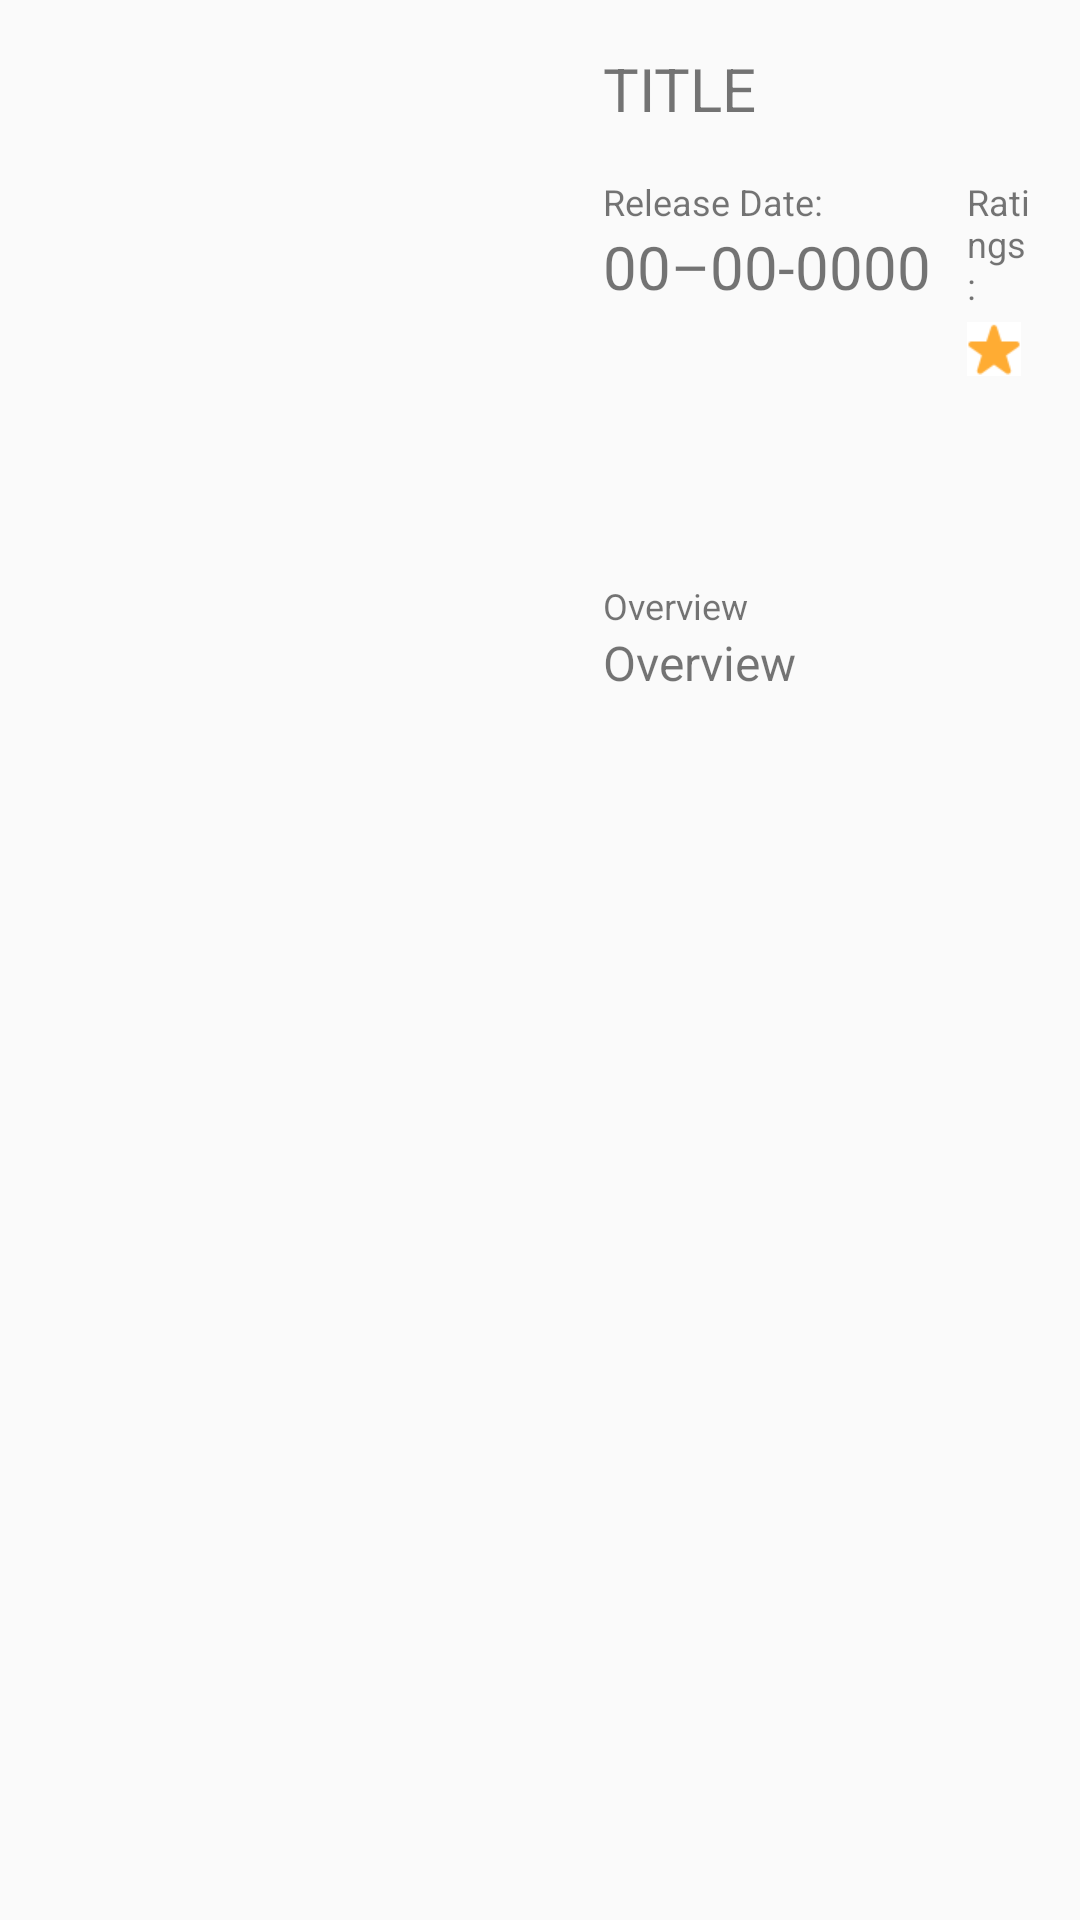

Screen size 1080x1920. Icon name, then its box in pixels as (x1, y1, x2, y2):
star: (968, 324, 1020, 375)
